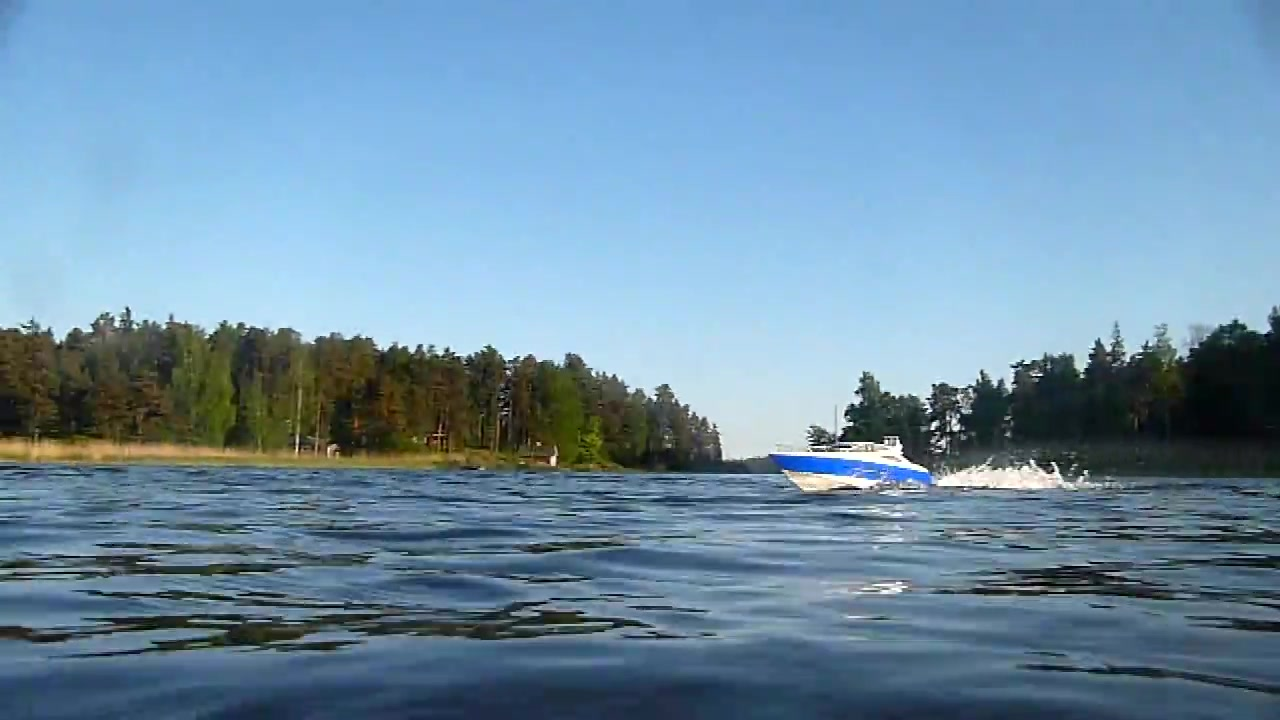boat: (770, 431, 938, 500)
